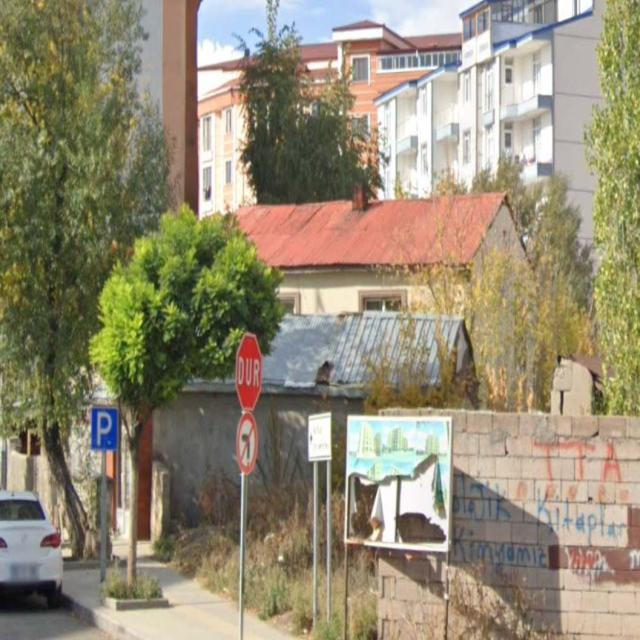dur: (235, 333, 261, 410)
park: (92, 410, 118, 448)
soladonulmez: (236, 413, 258, 473)
